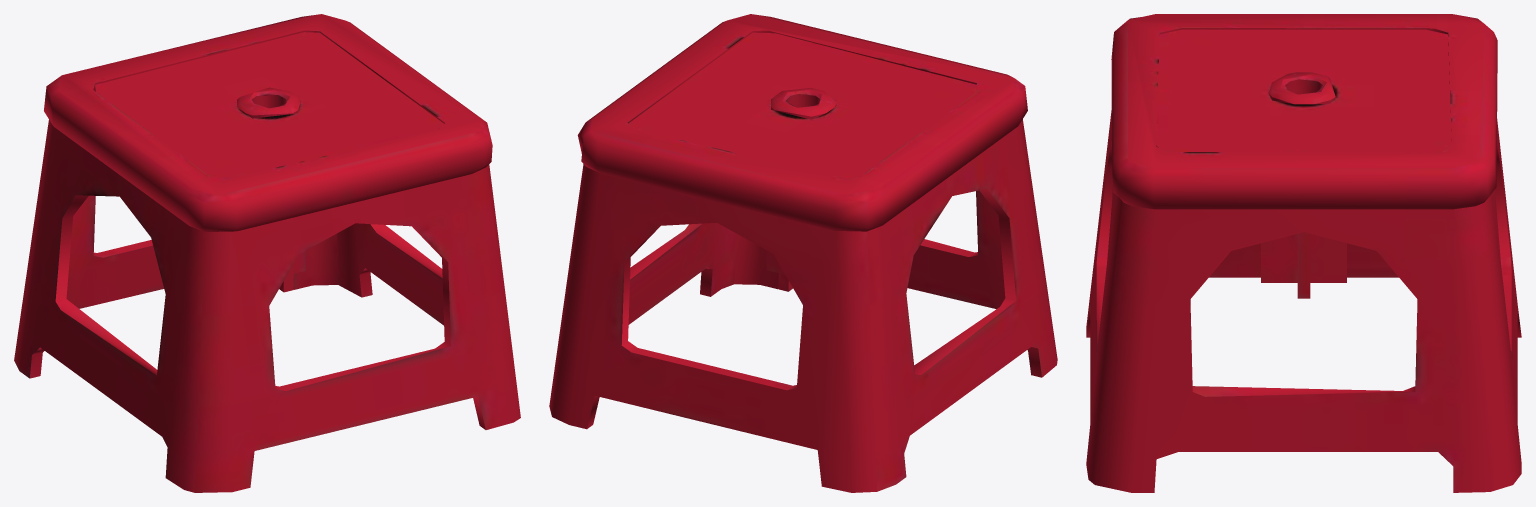
Rendered from ghe-do.glb.
3 views of the same model, side by side, from view 1: azimuth 30°, elevation 25°; view 2: azimuth 150°, elevation 25°; view 3: azimuth 270°, elevation 25° (orthographic). The views are drawn at different scales.
Visible parts, largest first — view 1: VN_PlasticStool_Red_0; view 2: VN_PlasticStool_Red_0; view 3: VN_PlasticStool_Red_0.
Boxes of the visible parts, left/top/right/bottom form: VN_PlasticStool_Red_0: left=14, top=14, right=520, bottom=492; VN_PlasticStool_Red_0: left=549, top=14, right=1057, bottom=492; VN_PlasticStool_Red_0: left=1086, top=14, right=1521, bottom=492.
Bounding box in the file's own units: 1 × 0.8009 × 1.
Materials: 1 (1 with a texture image).
